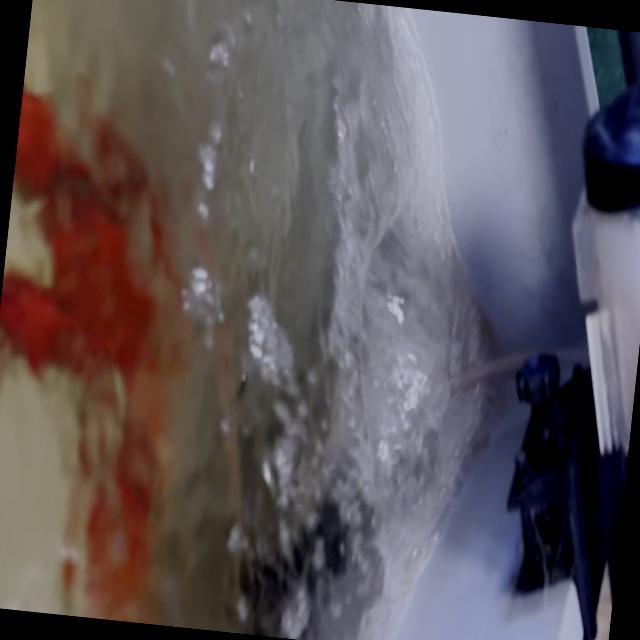fish: (7, 179, 170, 380), (10, 76, 76, 210)
